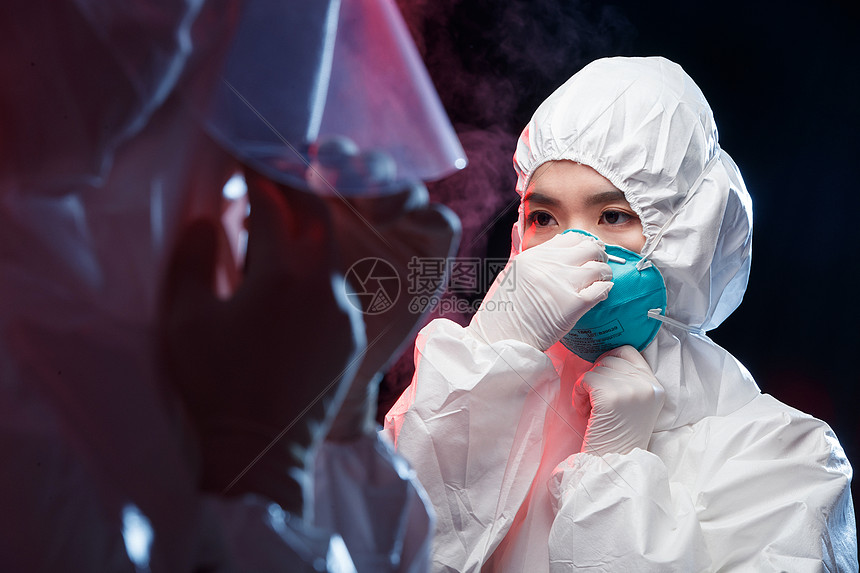with_mask: (517, 146, 680, 367)
